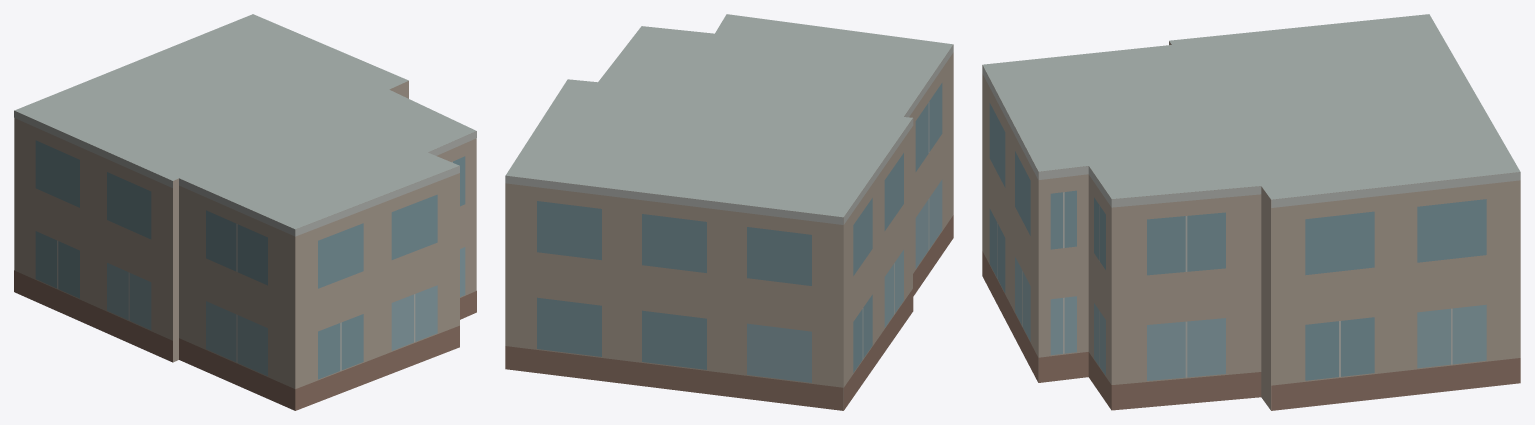
File: survey-upis-32917738.glb
3 renders of one model, left to right at view 1: azimuth 30°, elevation 25°; view 2: azimuth 150°, elevation 25°; view 3: azimuth 270°, elevation 25°, orthographic. The views are drawn at different scales.
Parts seen in each view (by area): view 1: survey-upis-32917738.tmp; view 2: survey-upis-32917738.tmp; view 3: survey-upis-32917738.tmp.
Part boxes in pixels (x1,y1,x2,y2): survey-upis-32917738.tmp: (14, 14, 476, 410); survey-upis-32917738.tmp: (505, 14, 953, 410); survey-upis-32917738.tmp: (982, 14, 1520, 410).
Size of the model in its own units: 11.51 by 6.1 by 14.1.
